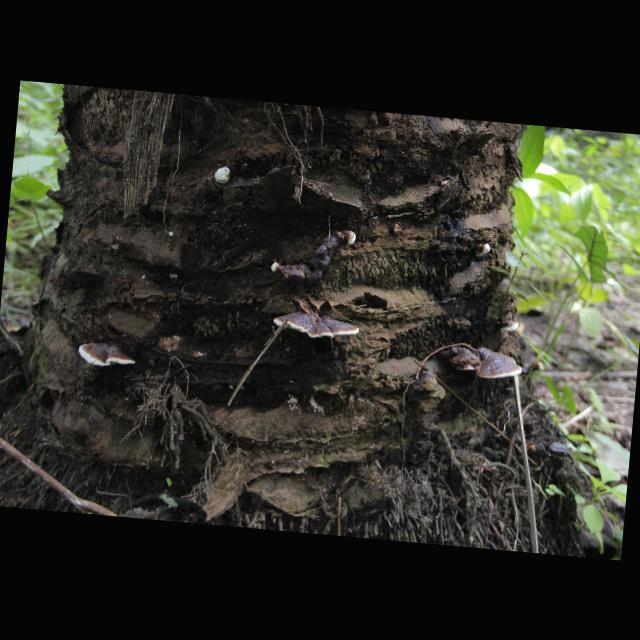ganoderma: (281, 226, 343, 289), (272, 308, 362, 344), (473, 348, 526, 384), (77, 340, 138, 371), (441, 346, 484, 374), (494, 320, 521, 334)
primordium: (213, 167, 232, 186), (341, 230, 357, 247), (474, 244, 492, 259), (531, 361, 545, 373), (271, 262, 281, 274), (169, 232, 175, 238)
